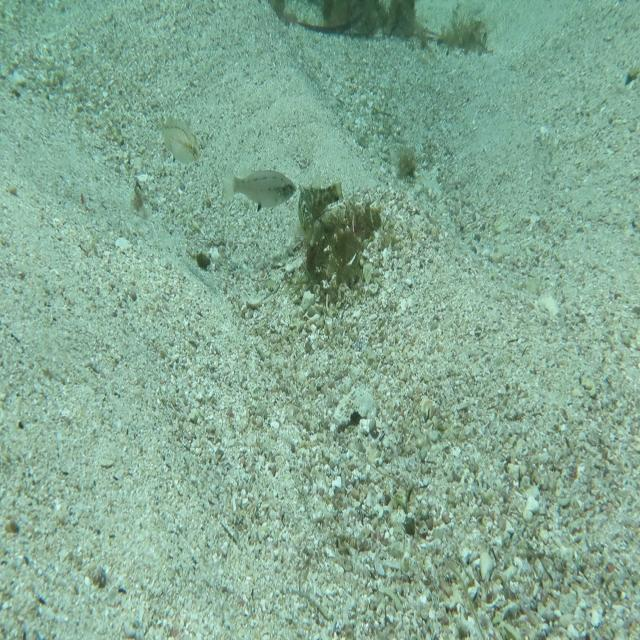BEND_OPP: (295, 170, 347, 244)
female: (222, 162, 298, 212)
nest: (302, 209, 386, 302)
other_fish: (150, 107, 207, 174)
